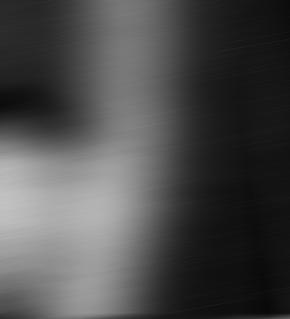Airbag: (0, 1, 290, 318)
